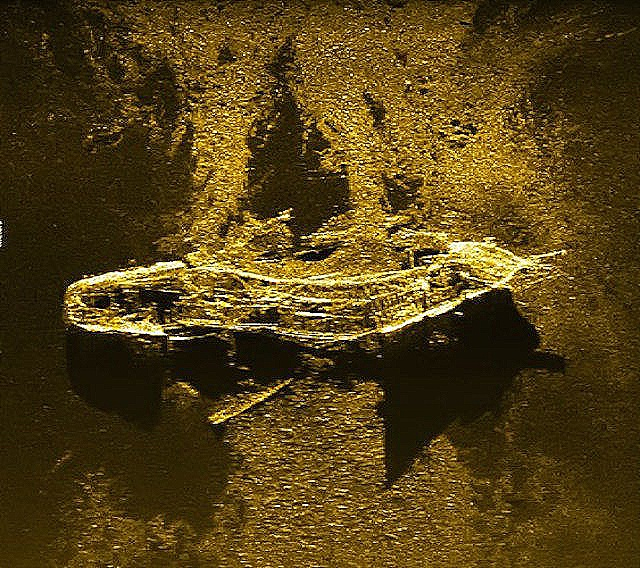ship: (64, 206, 571, 426)
